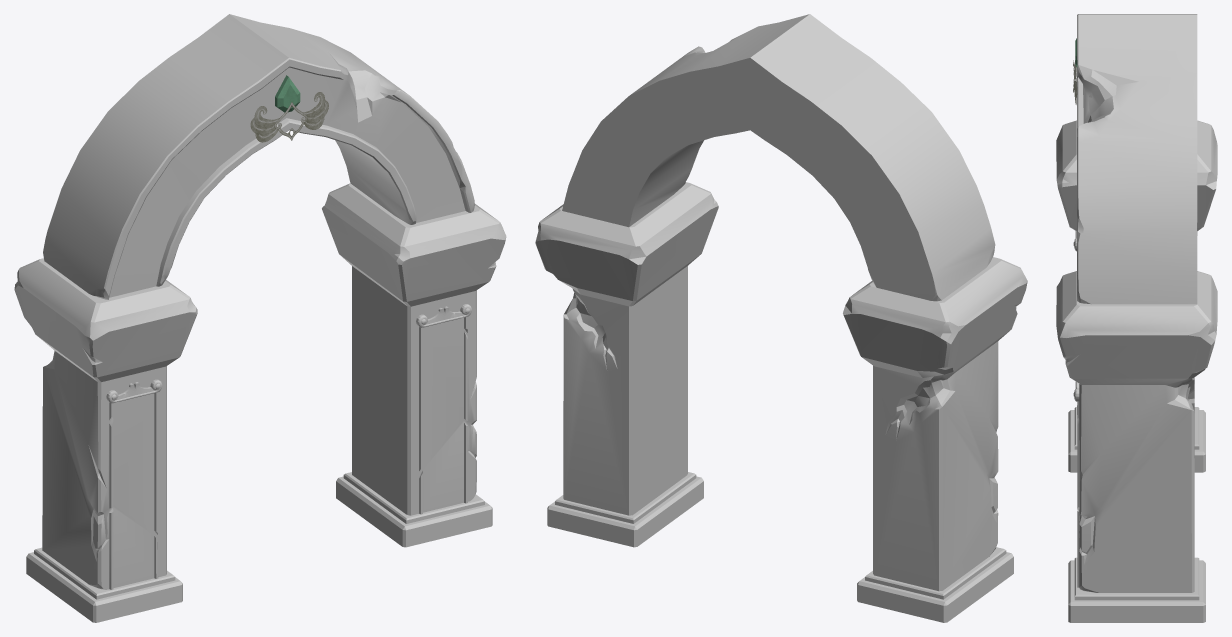
Rendered from Gate.fbx.
3 renders of one model, left to right at view 1: azimuth 30°, elevation 25°; view 2: azimuth 150°, elevation 25°; view 3: azimuth 270°, elevation 25°, orthographic.
Visible parts, largest first — view 1: Object003, Object002; view 2: Object003; view 3: Object003.
Boxes of the visible parts, x1,y1,x2,y2 form: Object003: (14,14,506,622); Object002: (250,75,328,142); Object003: (535,14,1027,622); Object003: (1056,14,1217,622).
Size of the model in its own units: 4.38 by 5.1 by 1.46.
